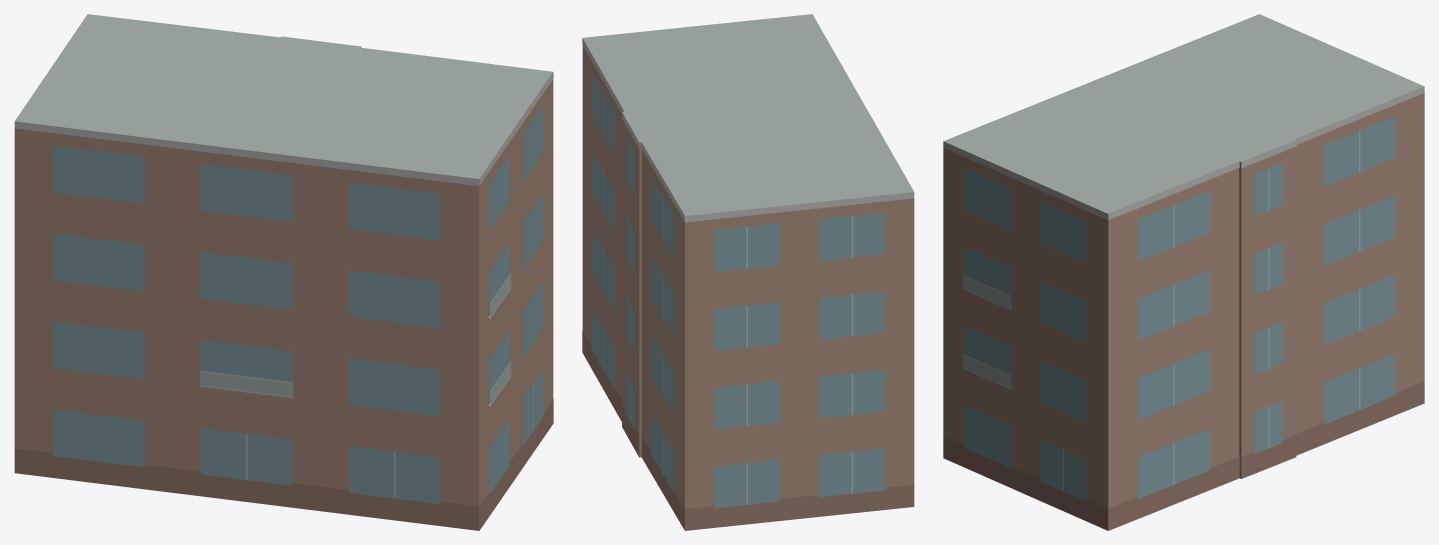
File: survey-upis-32583113.glb
3 renders of one model, left to right at view 1: azimuth 30°, elevation 25°; view 2: azimuth 150°, elevation 25°; view 3: azimuth 270°, elevation 25°, orthographic. The views are drawn at different scales.
Visible parts, largest first — view 1: survey-upis-32583113.tmp; view 2: survey-upis-32583113.tmp; view 3: survey-upis-32583113.tmp.
Part boxes in pixels (x1,y1,x2,y2): survey-upis-32583113.tmp: (14,14,553,530); survey-upis-32583113.tmp: (582,14,914,530); survey-upis-32583113.tmp: (943,14,1424,530).
Size of the model in its own units: 16.52 by 12.2 by 16.8.
